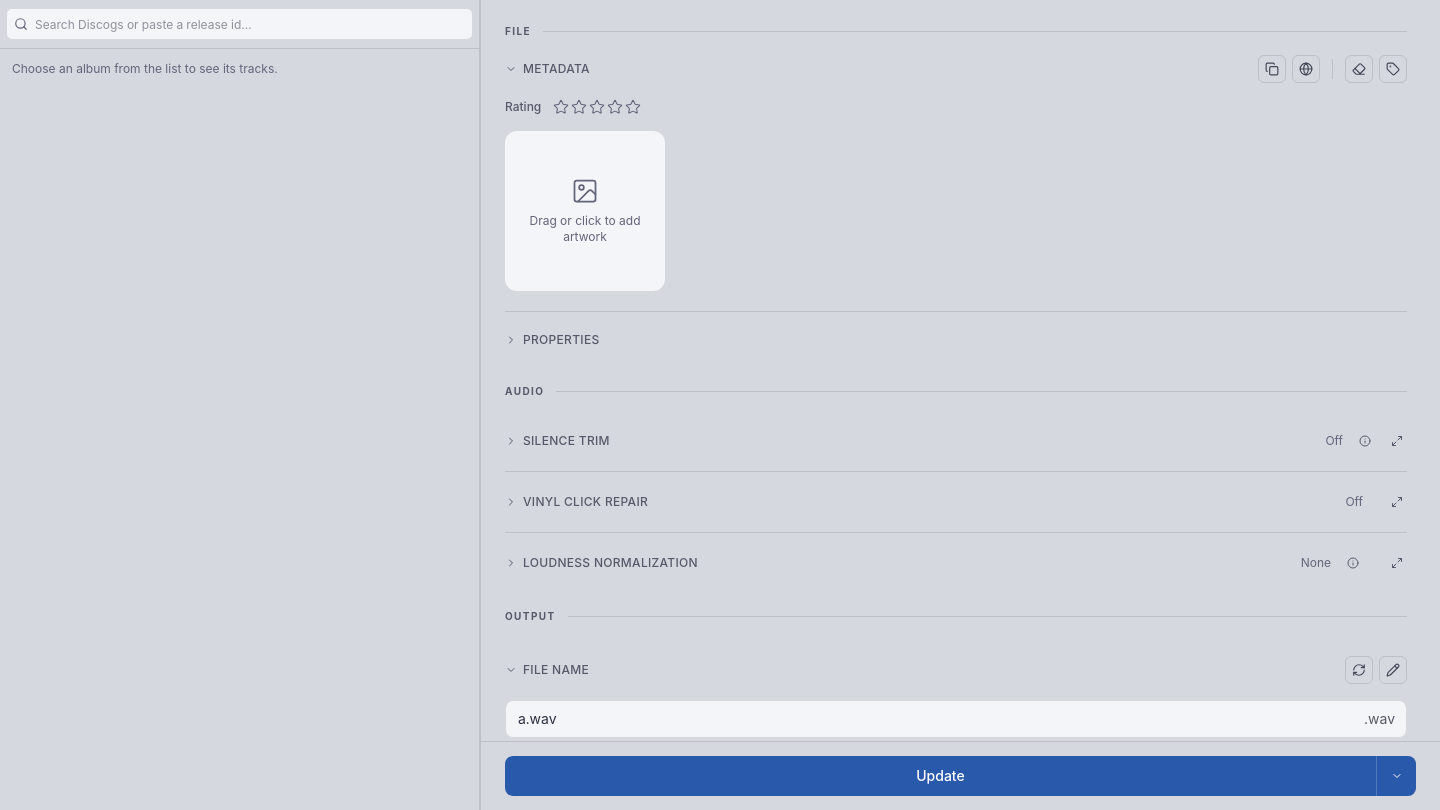
it: Editor export control › relabels the main button to the format chosen from the dropdown
Click the button with test id "process-format-toggle". click: (1396, 776)
box: [1376,756,1416,796]
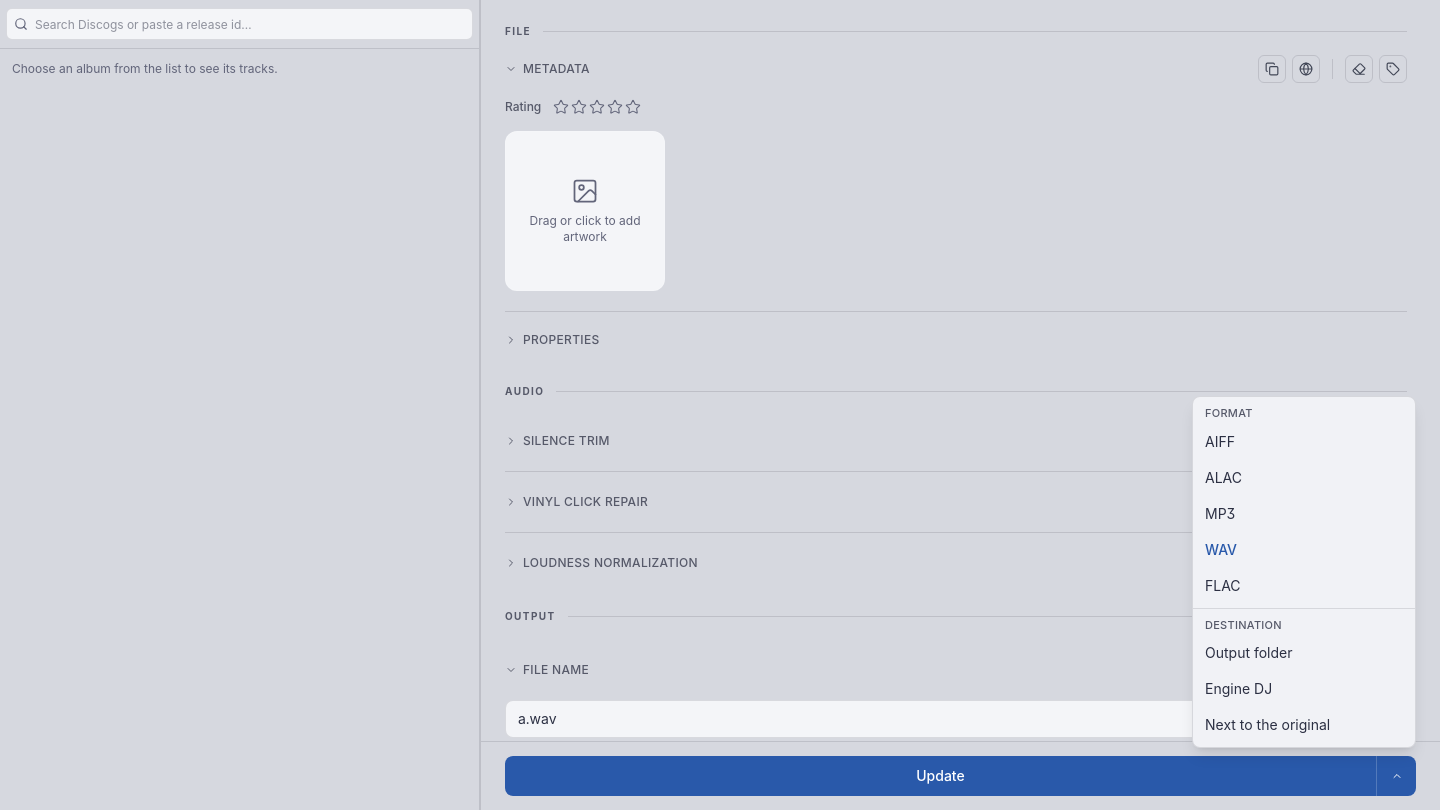
Click the button with test id "process-format-mp3". click: (1304, 514)
box: [1193,496,1415,532]
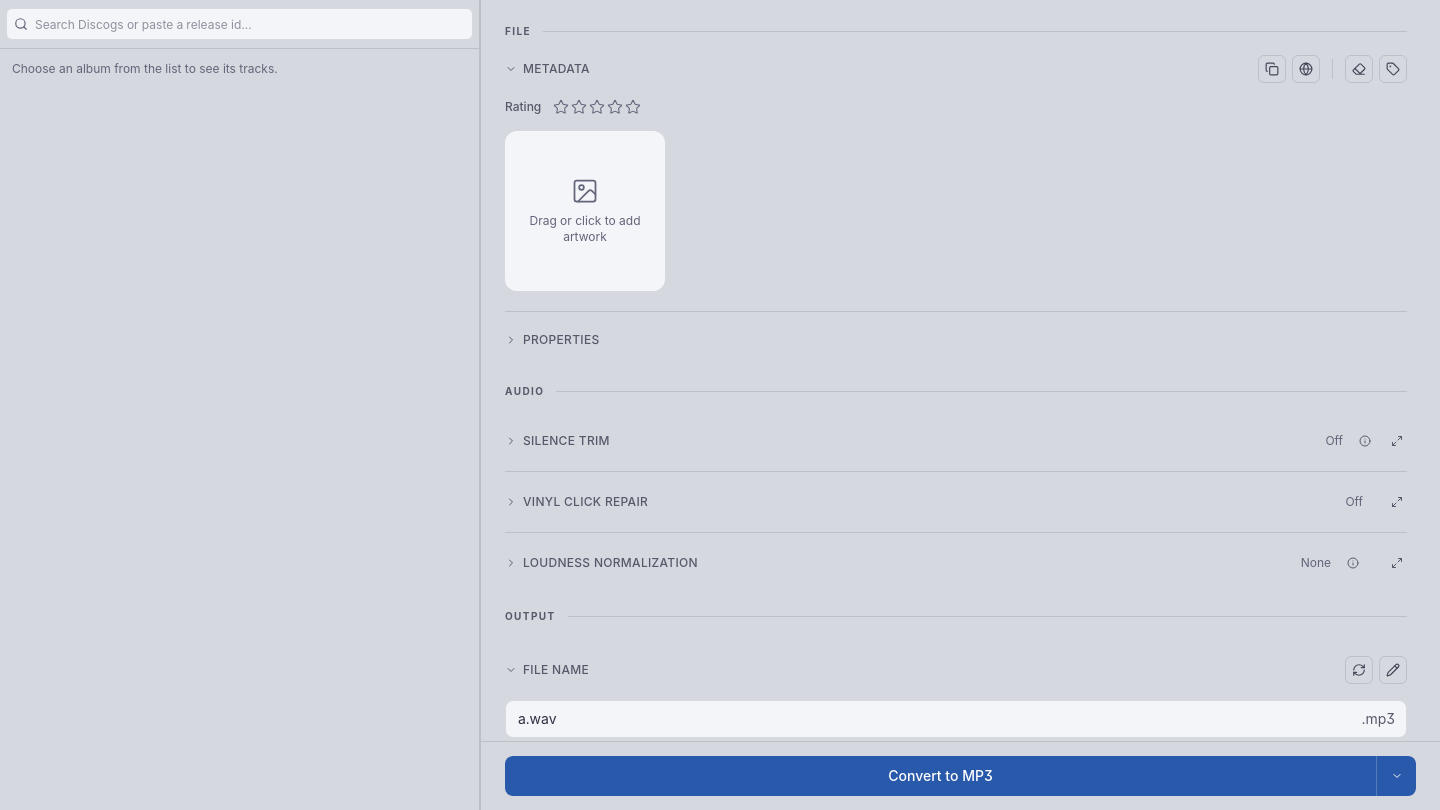
Result: the button with test id "process-btn" shows "MP3" at [505,756,1376,796]
